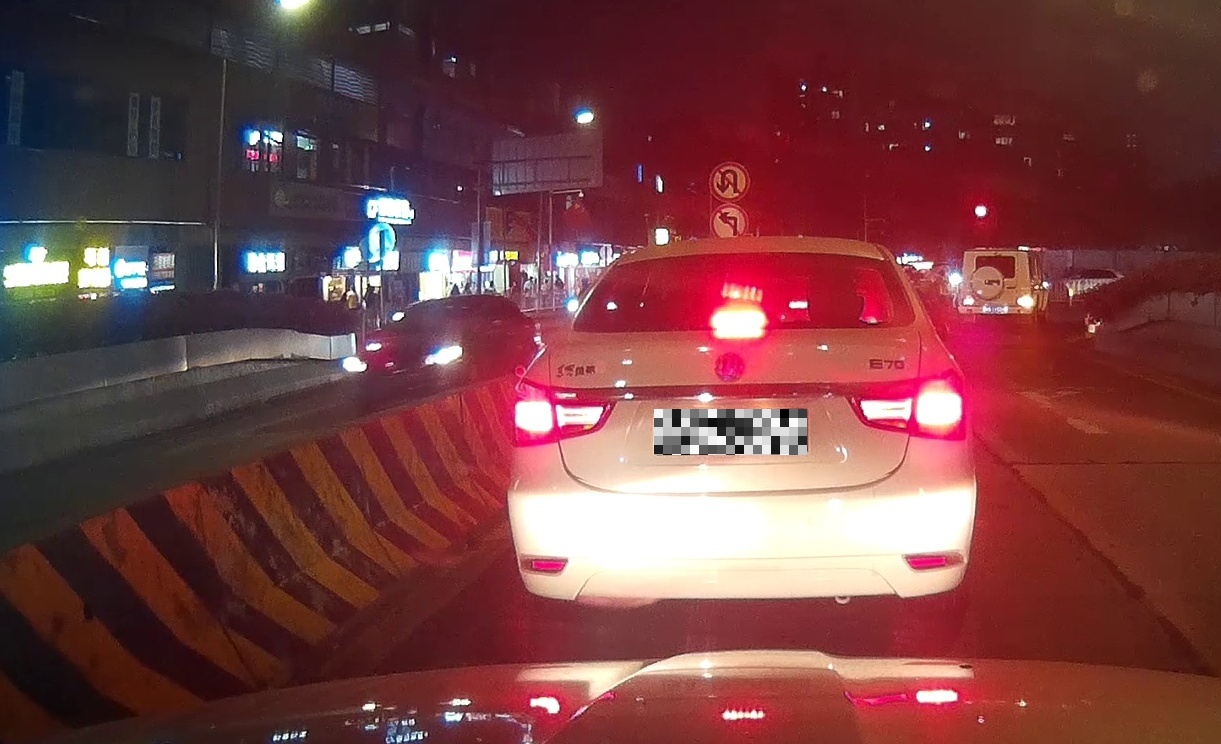L_light: (511, 377, 617, 446)
R_light: (844, 367, 965, 440)
T_light: (712, 311, 764, 329)
night-brake: (507, 237, 975, 620)
plate_1: (654, 409, 807, 455)
